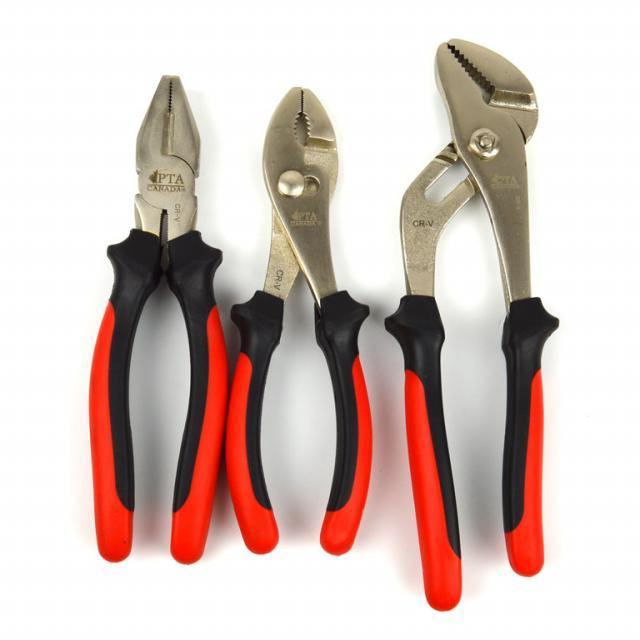pliers: (382, 33, 564, 618), (219, 78, 381, 562), (80, 68, 232, 572)
